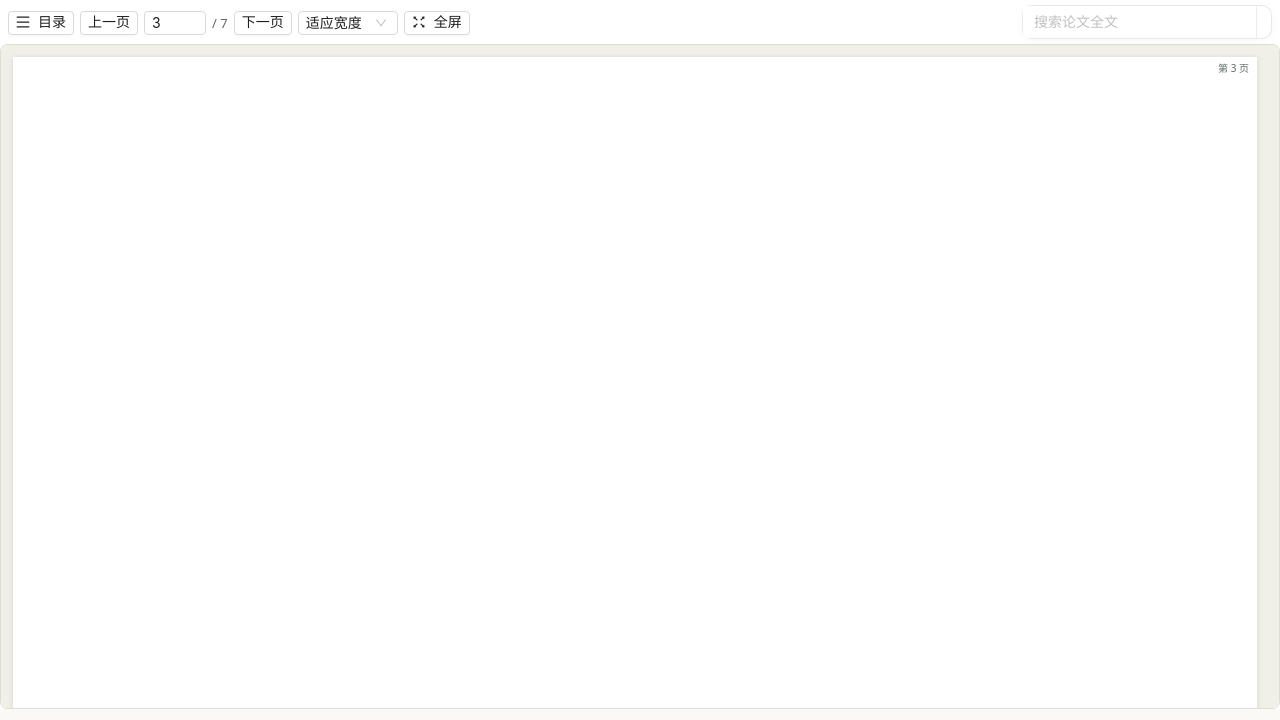
Test: typed out-of-range and empty page values cannot request invalid PDF pages
(page scrolled)
Replace the text in the number field named "PDF 页码" with "999": (175, 22) [145, 12, 205, 34]
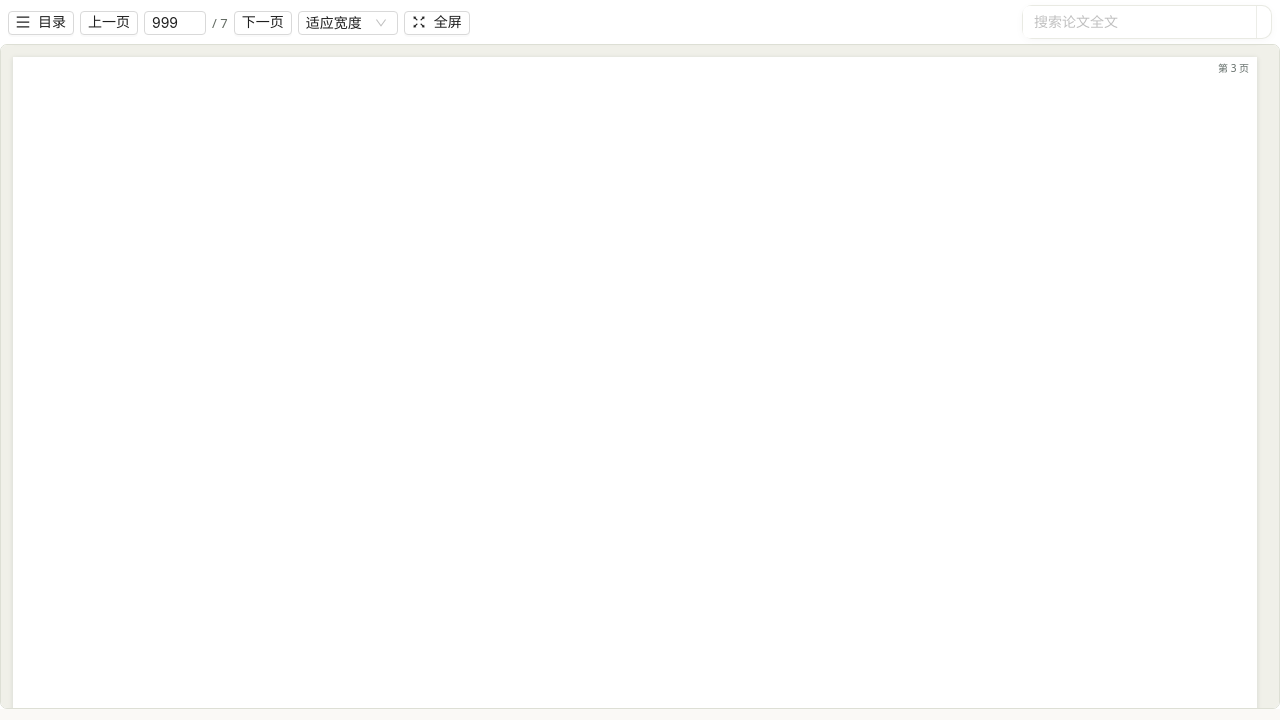
Leave the number field named "PDF 页码", box [145, 12, 205, 34]
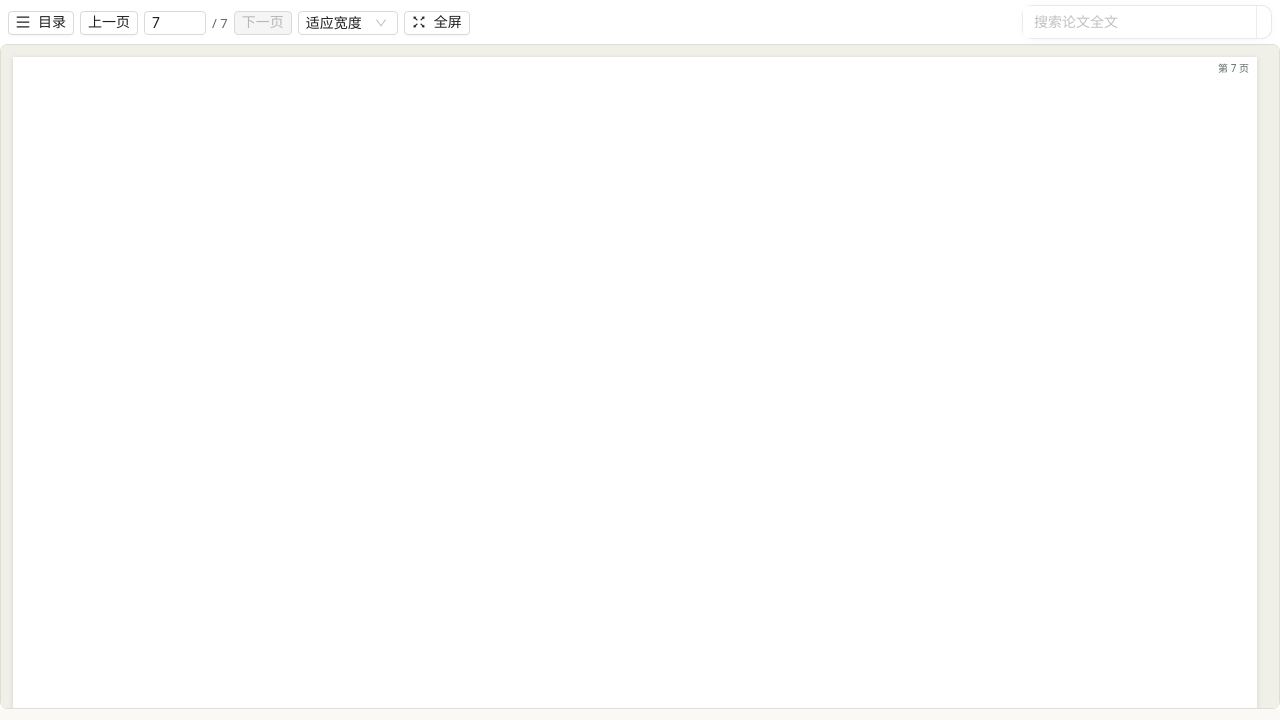
expect the number field named "PDF 页码" holds "7": met
Replace the text in the number field named "PDF 页码" with "-4": (175, 22) [145, 12, 205, 34]
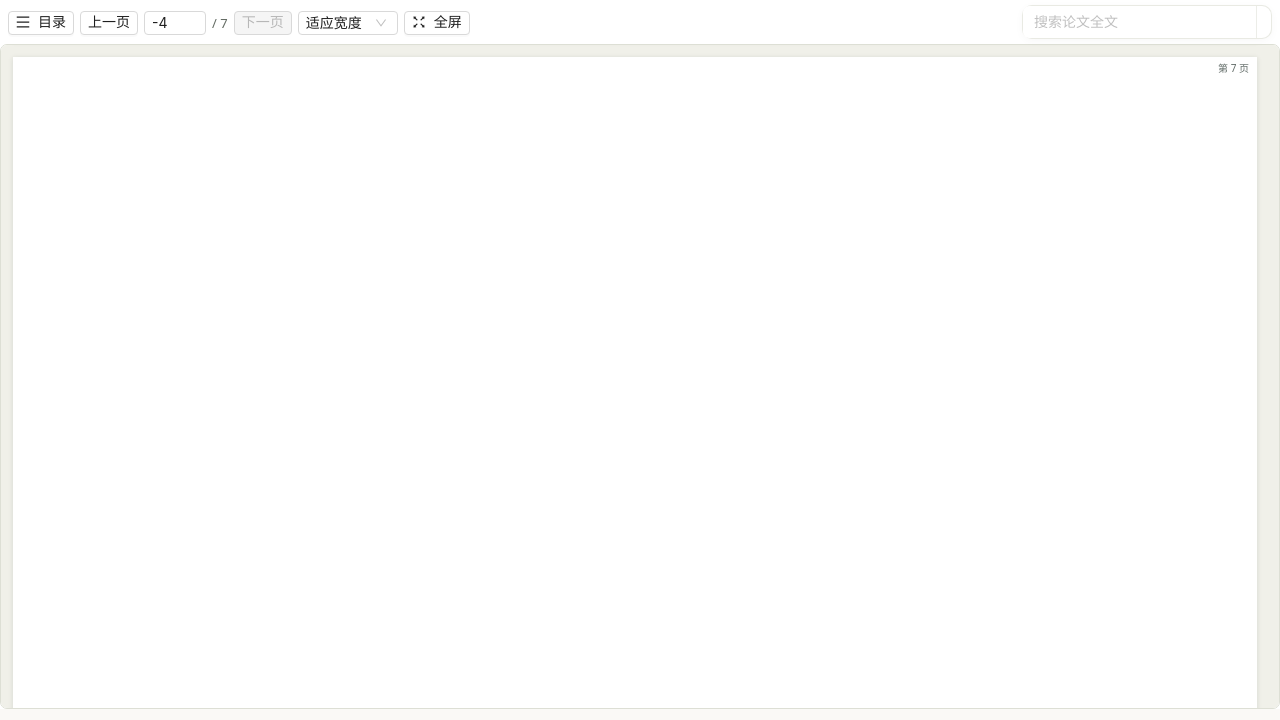
Leave the number field named "PDF 页码", box [145, 12, 205, 34]
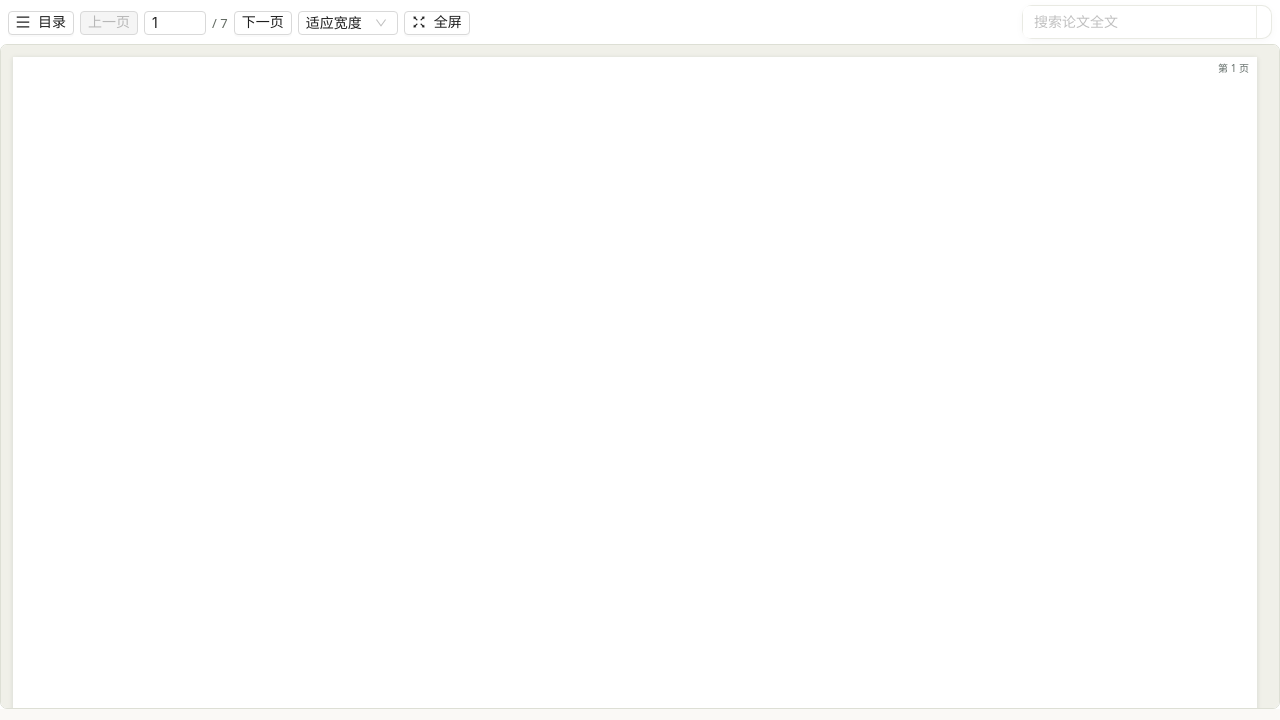
expect the number field named "PDF 页码" holds "1": met
Clear the number field named "PDF 页码": (175, 22) [145, 12, 205, 34]
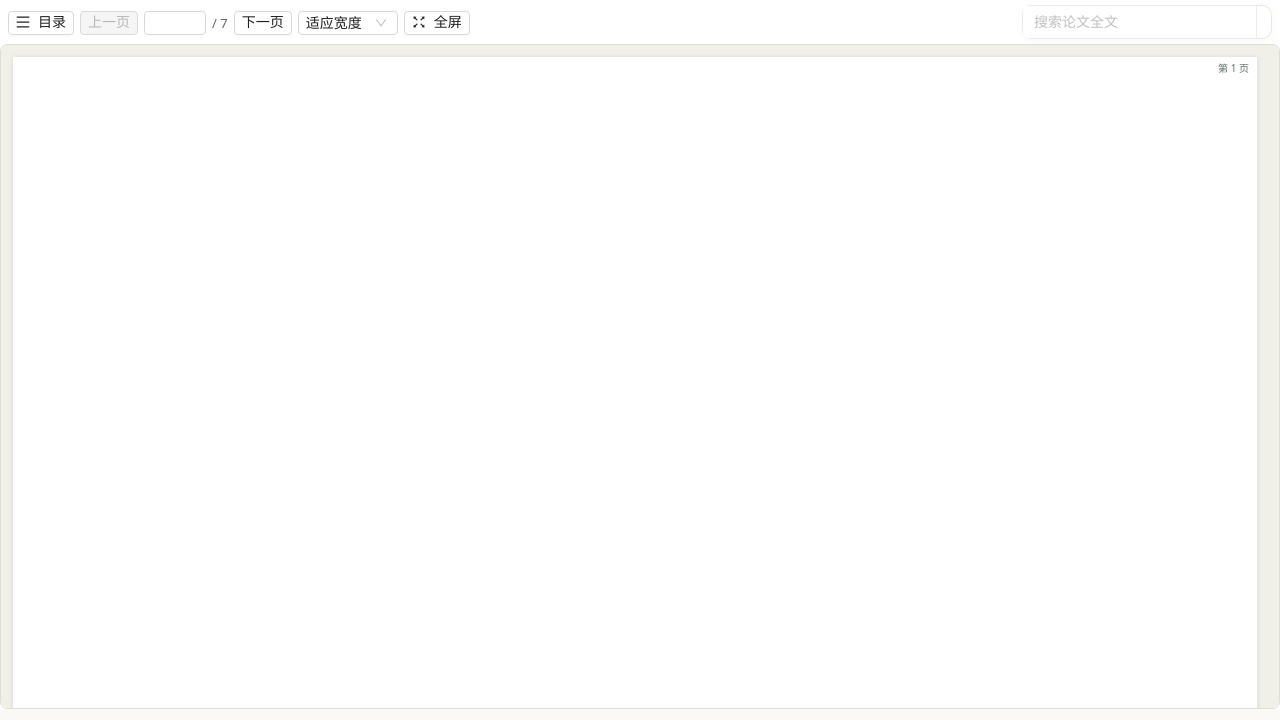
Leave the number field named "PDF 页码", box [145, 12, 205, 34]
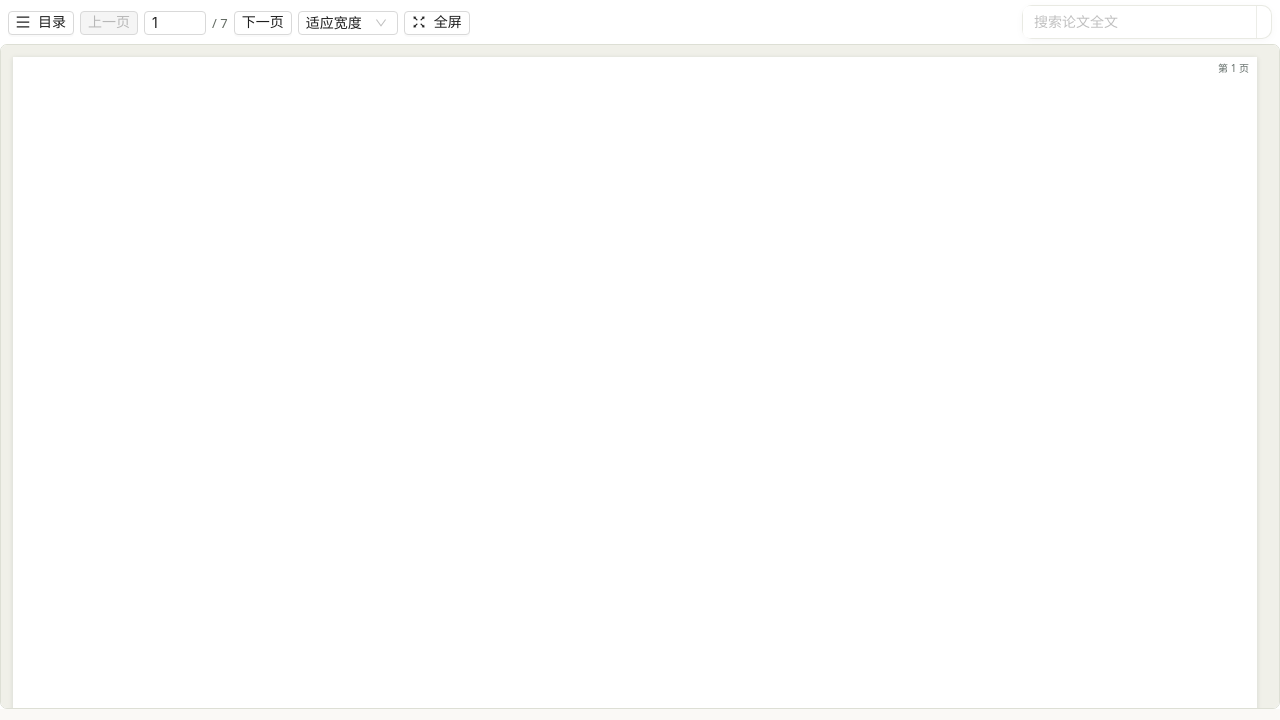
expect the number field named "PDF 页码" holds "1": met, box [145, 12, 205, 34]
